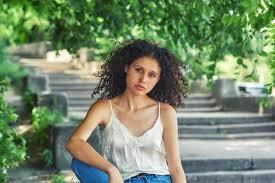Persons: (97, 37, 198, 120)
